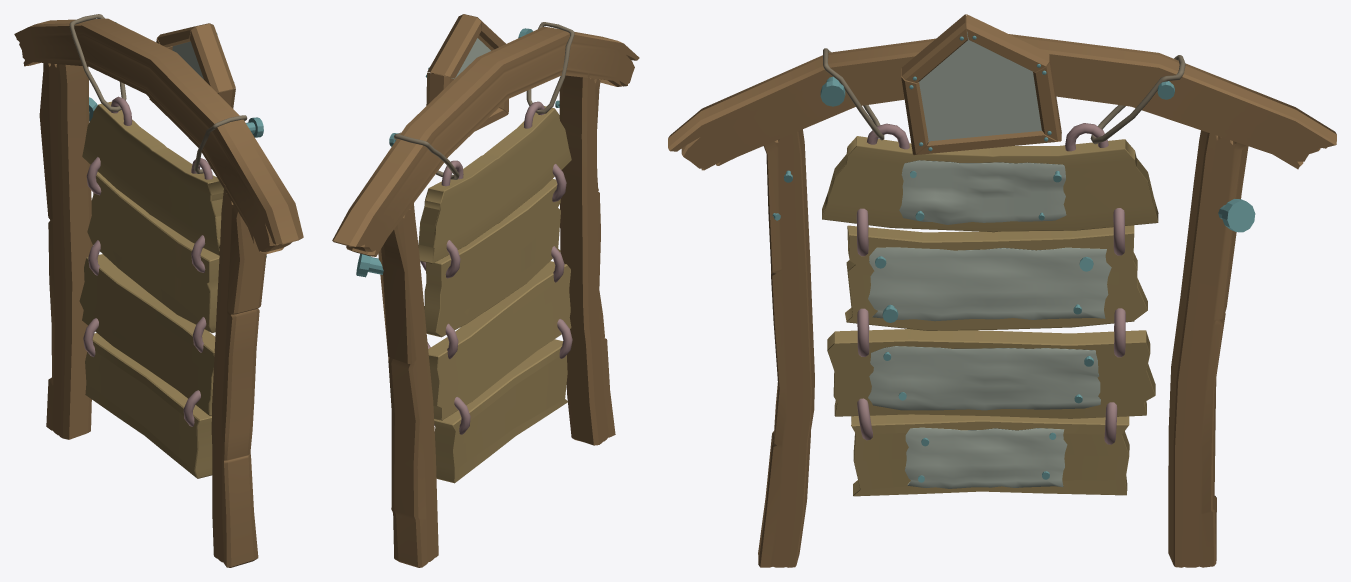
The model's file is MainMenu.fbx.
3 views of the same model, side by side, from view 1: azimuth 30°, elevation 25°; view 2: azimuth 150°, elevation 25°; view 3: azimuth 270°, elevation 25° (orthographic). The views are drawn at different scales.
Parts seen in each view (by area): view 1: polySurface133; view 2: polySurface133; view 3: polySurface133.
Boxes of the visible parts, <box> form: polySurface133: <box>14,14,303,567</box>; polySurface133: <box>332,14,639,567</box>; polySurface133: <box>668,14,1336,567</box>.
Bounding box in the file's own units: 19.23 × 118 × 125.
